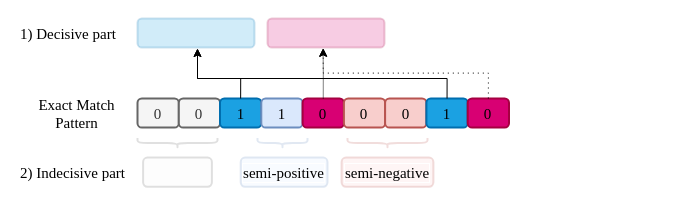
This 673x205 diagram has some shape labels left out. Here are the shapes that lost their labels. From the top down, the centre of each, then its label:
At pixel 195 32: "definite positive".
At pixel 325 32: "definite negative".
At pixel 177 171: "Initial 0s".
